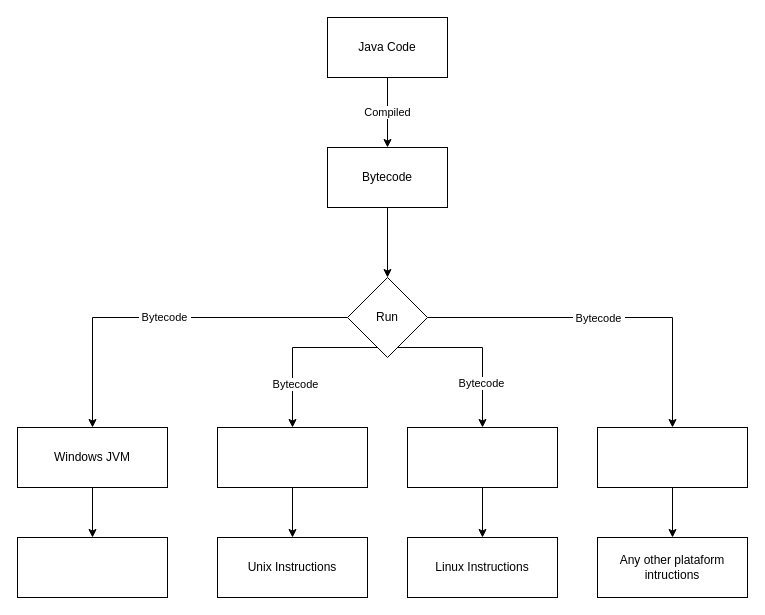
This 765x615 diagram has some shape labels left out. The shapes that lost their labels are listed below. From the top down, each one's centre as x and y in pixels, then its label:
the point at 292,457: Unix JVM
the point at 482,457: Linux JVM
the point at 672,457: Any other plataform JVM
the point at 92,567: Windows Instructions
